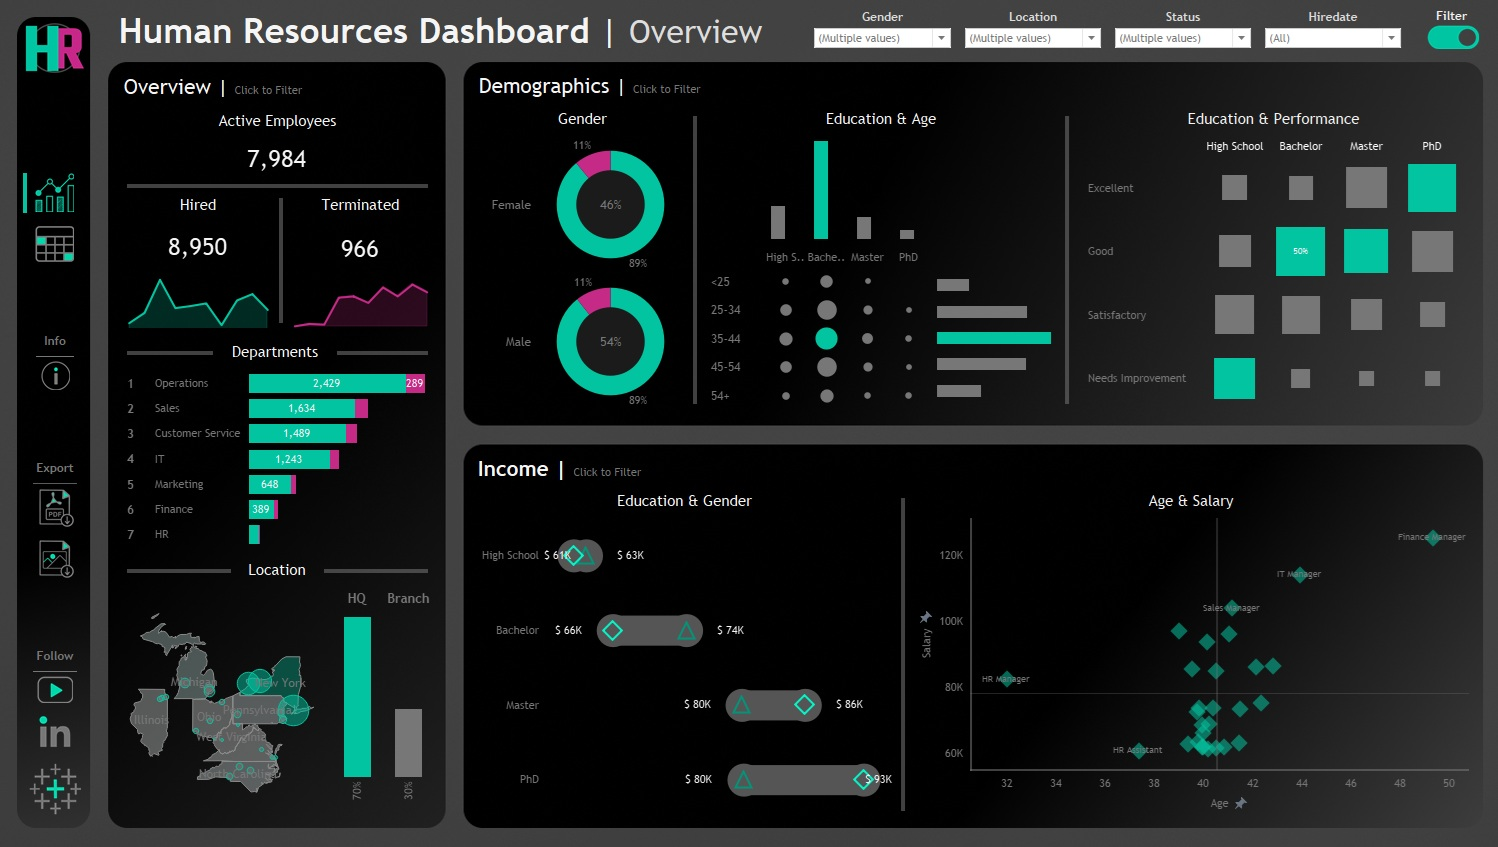

The page's visual inventory and layout, read from the dashboard file:
{"tool":"tableau","page":{"name":"HR | Summary","canvas":[1500,850],"ordinal":1},"visuals":[{"type":"image","param":"Image/Frame 1 (2).png","box":[0,0,1500,850]},{"type":"blank","box":[91,0,1407,324]},{"type":"text","box":[110,0,1370,65]},{"type":"filter","title":"Gender vs Education Level","param":"[federated.1ilht4d1bd5ngs16ntz8z136oul7].[none:Gender:nk]","box":[807,8,151,51]},{"type":"filter","title":"Gender vs Education Level","param":"[federated.1ilht4d1bd5ngs16ntz8z136oul7].[none:Calculation_1366842513096970245:n","box":[958,8,150,51]},{"type":"filter","title":"Gender vs Education Level","param":"[federated.1ilht4d1bd5ngs16ntz8z136oul7].[none:Calculation_1366842513458229258:n","box":[1108,8,150,51]},{"type":"filter","title":"Gender vs Education Level","param":"[federated.1ilht4d1bd5ngs16ntz8z136oul7].[yr:Hiredate:ok]","box":[1258,8,150,51]},{"type":"text","box":[1410,8,83,20]},{"type":"image","param":"Image/Logo.png","box":[20,20,70,59]},{"type":"dashboard-object","box":[1427,22,52,35]},{"type":"text","box":[117,72,321,33]},{"type":"text","box":[472,72,1001,32]},{"type":"blank","box":[20,79,70,87]},{"type":"text","box":[117,105,321,31]},{"type":"text","box":[476,108,213,26]},{"type":"blank","box":[693,108,4,308.5]},{"type":"text","box":[701,108,360,26]},{"type":"blank","box":[1065,108,4,308.5]},{"type":"text","box":[1078,108,391,26]},{"type":"worksheet","title":"Gender","mark":"Pie","rows":["Gender"],"cols":["Calculation_1366842513104834567","Calculation_1366842513104834567"],"box":[476,134,213,282.5]},{"type":"worksheet","title":"Education Level","mark":"Bar","rows":["Calculation_1366842513067585536"],"cols":["Education Level"],"box":[701,134,360,111]},{"type":"worksheet","title":"Education vs Performance","mark":"Square","rows":["Performance Rating"],"cols":["Education Level"],"box":[1078,134,391,282.5]},{"type":"worksheet","title":"BAN Active","mark":"Text","box":[117,136,321,50]},{"type":"blank","box":[23,175,4,40]},{"type":"dashboard-object","box":[29,175,52,39]},{"type":"blank","box":[117,186,321,4]},{"type":"text","box":[117,190,162,33]},{"type":"blank","box":[279,190,4,145]},{"type":"text","box":[283,190,154.9,33]},{"type":"blank","box":[29,214,52,12]},{"type":"worksheet","title":"BAN Hired","mark":"Text","box":[117,223,162,51]},{"type":"worksheet","title":"BAN Terminated","mark":"Text","box":[283,223,154.9,56]},{"type":"dashboard-object","box":[29,226,52,39]},{"type":"worksheet","title":"Age vs Education","mark":"Circle","rows":["Calculation_1366842513108213769"],"cols":["Education Level"],"box":[701,245,232,171.5]},{"type":"worksheet","title":"Age Group","mark":"Bar","rows":["Calculation_1366842513108213769"],"cols":["Calculation_1366842513067585536"],"box":[933,245,128,171.5]},{"type":"blank","box":[29,265,52,66.9]},{"type":"worksheet","title":"Hired By Year","mark":"Line","rows":["Calculation_1366842513067585536","Calculation_1366842513067585536"],"cols":["Hiredate"],"box":[117,274,162,61]},{"type":"worksheet","title":"Terminated By Year","mark":"Line","rows":["Calculation_1366842513068048385","Calculation_1366842513068048385"],"cols":["Termdate"],"box":[283,279,154.9,56]},{"type":"text","box":[91,324,1407,226]},{"type":"text","box":[29,331.9,52,22]},{"type":"blank","box":[127,339,86,30]},{"type":"text","box":[213,339,124,30]},{"type":"blank","box":[337,339,91,30]},{"type":"blank","box":[29,353.9,52,9]},{"type":"dashboard-object","box":[29,362.9,52,29]},{"type":"worksheet","title":"Department","mark":"Bar","rows":["Calculation_1366842513095839748","Department"],"cols":["Calculation_1366842513067585536"],"box":[117,369,321,184]},{"type":"blank","box":[29,391.9,52,66.9]},{"type":"text","box":[472,454.5,1001,31]},{"type":"text","box":[29,458.8,52,22]},{"type":"blank","box":[29,480.8,52,9]},{"type":"text","box":[472,489.5,425,26]},{"type":"blank","box":[901,489.5,4,333.5]},{"type":"text","box":[909,489.5,564,26]},{"type":"dashboard-object","box":[29,489.8,52,39]},{"type":"worksheet","title":"Gender vs Education Level","mark":"Square","rows":["Education Level"],"cols":["Salary","Salary"],"box":[472,515.5,425,307.5]},{"type":"worksheet","title":"Age vs Salary","mark":"Shape","rows":["Salary"],"cols":["Calculation_1366842513107800072"],"box":[909,515.5,564,307.5]},{"type":"blank","box":[29,528.8,52,12]},{"type":"dashboard-object","box":[29,540.8,52,39]},{"type":"blank","box":[91,550,1407,300]},{"type":"blank","box":[127,557,104.3,30]},{"type":"text","box":[231.3,557,92.3,30]},{"type":"blank","box":[323.7,557,104.3,30]},{"type":"blank","box":[29,579.8,52,66.9]},{"type":"worksheet","title":"Map States","mark":"Automatic","box":[117,587,210.4,236]},{"type":"worksheet","title":"Location","mark":"Bar","rows":["Calculation_1366842513067585536"],"cols":["Calculation_1366842513096970245","Calculation1"],"box":[327.4,587,110.6,236]},{"type":"text","box":[29,646.7,52,22]},{"type":"blank","box":[29,668.7,52,9]},{"type":"image","param":"Image/contact-channel.png","box":[29,677.7,52,27]},{"type":"blank","box":[29,704.7,52,12]},{"type":"image","param":"Image/contact-linkedin.png","box":[29,716.7,52,33]},{"type":"blank","box":[29,749.7,52,12]},{"type":"image","param":"Image/contact-public.png","box":[29,761.7,52,59.3]}]}

Visuals, with their boxes in screenshot pixels (x1, y1, x2, y2), scaled from the page's 1500x850 canvas onto the 1498x847 screenshot:
image: (left=0, top=0, right=1497, bottom=846)
blank: (left=91, top=0, right=1496, bottom=323)
text: (left=110, top=0, right=1478, bottom=65)
"Gender vs Education Level" filter: (left=806, top=8, right=957, bottom=59)
"Gender vs Education Level" filter: (left=957, top=8, right=1107, bottom=59)
"Gender vs Education Level" filter: (left=1107, top=8, right=1256, bottom=59)
"Gender vs Education Level" filter: (left=1256, top=8, right=1406, bottom=59)
text: (left=1408, top=8, right=1491, bottom=28)
image: (left=20, top=20, right=90, bottom=79)
dashboard-object: (left=1425, top=22, right=1477, bottom=57)
text: (left=117, top=72, right=437, bottom=105)
text: (left=471, top=72, right=1471, bottom=104)
blank: (left=20, top=79, right=90, bottom=165)
text: (left=117, top=105, right=437, bottom=136)
text: (left=475, top=108, right=688, bottom=134)
blank: (left=692, top=108, right=696, bottom=415)
text: (left=700, top=108, right=1060, bottom=134)
blank: (left=1064, top=108, right=1068, bottom=415)
text: (left=1077, top=108, right=1467, bottom=134)
"Gender" worksheet (Pie marks): (left=475, top=134, right=688, bottom=415)
"Education Level" worksheet (Bar marks): (left=700, top=134, right=1060, bottom=244)
"Education vs Performance" worksheet (Square marks): (left=1077, top=134, right=1467, bottom=415)
"BAN Active" worksheet (Text marks): (left=117, top=136, right=437, bottom=185)
blank: (left=23, top=174, right=27, bottom=214)
dashboard-object: (left=29, top=174, right=81, bottom=213)
blank: (left=117, top=185, right=437, bottom=189)
text: (left=117, top=189, right=279, bottom=222)
blank: (left=279, top=189, right=283, bottom=334)
text: (left=283, top=189, right=437, bottom=222)
blank: (left=29, top=213, right=81, bottom=225)
"BAN Hired" worksheet (Text marks): (left=117, top=222, right=279, bottom=273)
"BAN Terminated" worksheet (Text marks): (left=283, top=222, right=437, bottom=278)
dashboard-object: (left=29, top=225, right=81, bottom=264)
"Age vs Education" worksheet (Circle marks): (left=700, top=244, right=932, bottom=415)
"Age Group" worksheet (Bar marks): (left=932, top=244, right=1060, bottom=415)
blank: (left=29, top=264, right=81, bottom=331)
"Hired By Year" worksheet (Line marks): (left=117, top=273, right=279, bottom=334)
"Terminated By Year" worksheet (Line marks): (left=283, top=278, right=437, bottom=334)
text: (left=91, top=323, right=1496, bottom=548)
text: (left=29, top=331, right=81, bottom=353)
blank: (left=127, top=338, right=213, bottom=368)
text: (left=213, top=338, right=337, bottom=368)
blank: (left=337, top=338, right=427, bottom=368)
blank: (left=29, top=353, right=81, bottom=362)
dashboard-object: (left=29, top=362, right=81, bottom=391)
"Department" worksheet (Bar marks): (left=117, top=368, right=437, bottom=551)
blank: (left=29, top=391, right=81, bottom=457)
text: (left=471, top=453, right=1471, bottom=484)
text: (left=29, top=457, right=81, bottom=479)
blank: (left=29, top=479, right=81, bottom=488)
text: (left=471, top=488, right=896, bottom=514)
blank: (left=900, top=488, right=904, bottom=820)
text: (left=908, top=488, right=1471, bottom=514)
dashboard-object: (left=29, top=488, right=81, bottom=527)
"Gender vs Education Level" worksheet (Square marks): (left=471, top=514, right=896, bottom=820)
"Age vs Salary" worksheet (Shape marks): (left=908, top=514, right=1471, bottom=820)
blank: (left=29, top=527, right=81, bottom=539)
dashboard-object: (left=29, top=539, right=81, bottom=578)
blank: (left=91, top=548, right=1496, bottom=846)
blank: (left=127, top=555, right=231, bottom=585)
text: (left=231, top=555, right=323, bottom=585)
blank: (left=323, top=555, right=427, bottom=585)
blank: (left=29, top=578, right=81, bottom=644)
"Map States" worksheet: (left=117, top=585, right=327, bottom=820)
"Location" worksheet (Bar marks): (left=327, top=585, right=437, bottom=820)
text: (left=29, top=644, right=81, bottom=666)
blank: (left=29, top=666, right=81, bottom=675)
image: (left=29, top=675, right=81, bottom=702)
blank: (left=29, top=702, right=81, bottom=714)
image: (left=29, top=714, right=81, bottom=747)
blank: (left=29, top=747, right=81, bottom=759)
image: (left=29, top=759, right=81, bottom=818)
